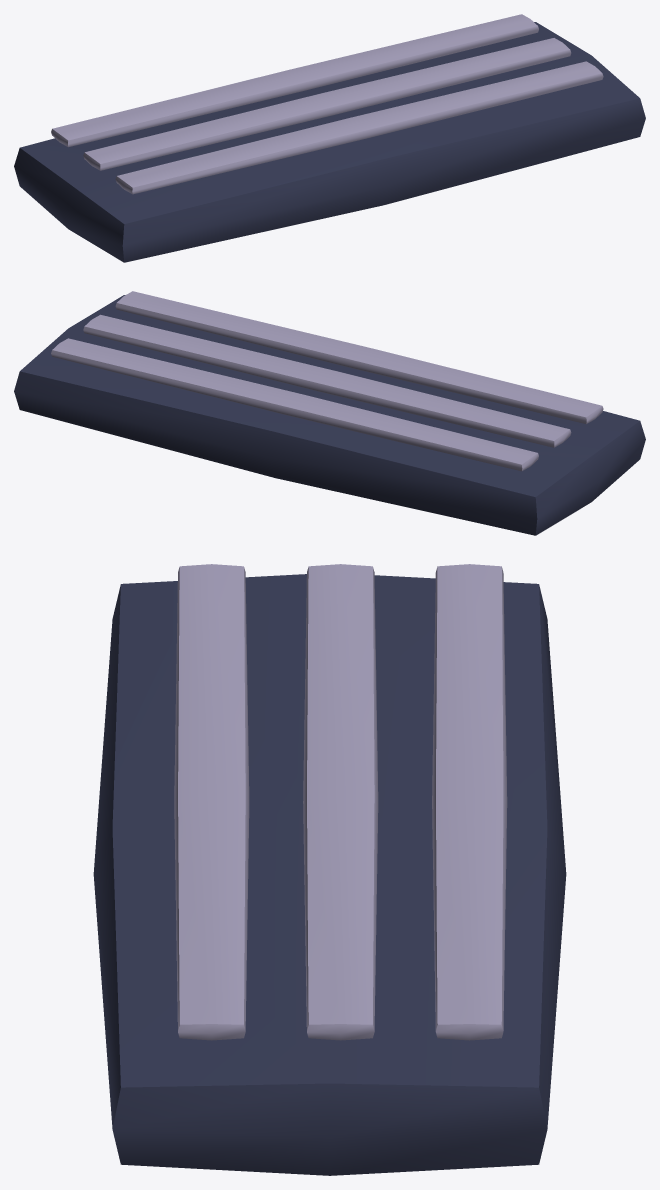
Rendered from keyboard.glb.
3 views of the same model, one above another, from view 1: azimuth 30°, elevation 25°; view 2: azimuth 150°, elevation 25°; view 3: azimuth 270°, elevation 25° (orthographic). The views are drawn at different scales.
Parts seen in each view (by area): view 1: part (×4); view 2: part (×4); view 3: part (×4).
Part boxes in pixels (bbox=[...]): part (×4): bbox=[14, 14, 645, 262]; part (×4): bbox=[14, 291, 645, 535]; part (×4): bbox=[93, 564, 566, 1175].
Size of the model in its own units: 0.58 by 0.0755 by 0.22.
1 material, 1 textured.
